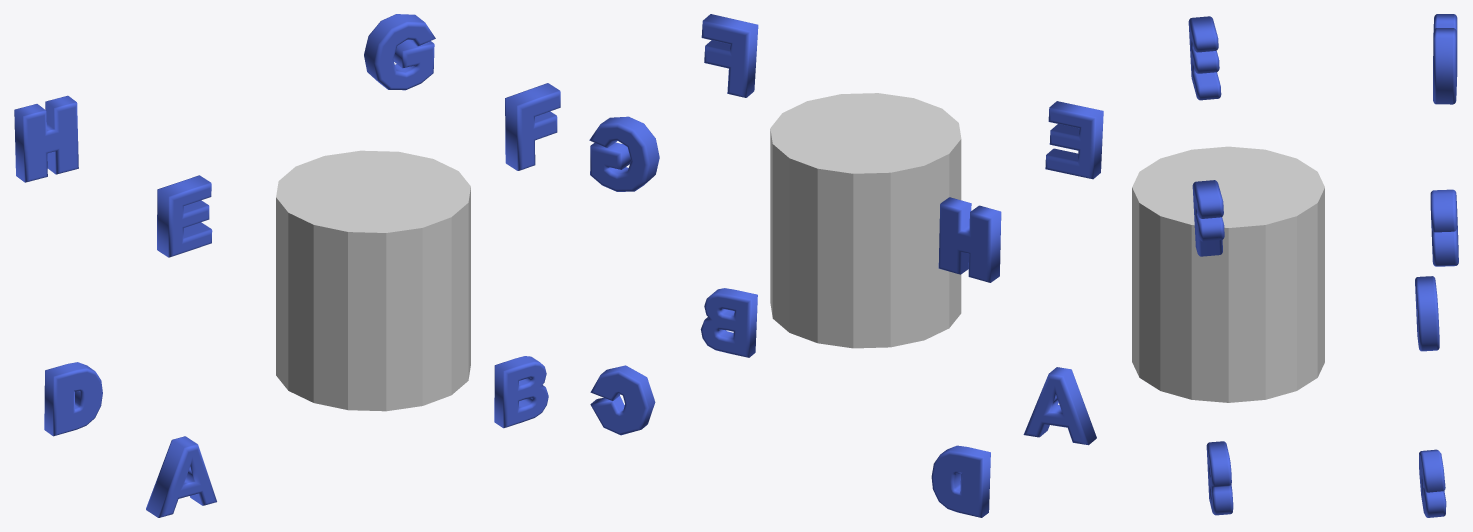
Rendered from tabung6.glb.
3 views of the same model, side by side, from view 1: azimuth 30°, elevation 25°; view 2: azimuth 150°, elevation 25°; view 3: azimuth 270°, elevation 25° (orthographic). The views are drawn at different scales.
Parts seen in each view (by area): view 1: Cylinder, Text.007, Text.006, Text.004, Text.003, Text.005, Text.009, Text.001; view 2: Cylinder, Text.007, Text.006, Text.004, Text.003, Text.005, Text.002, Text.001, Text.009; view 3: Cylinder, Text.004, Text.007, Text.005, Text.006, Text.001, Text.003, Text.002.
Boxes of the visible parts, x1,y1,x2,y2 form: Cylinder: (276,150,470,411); Text.007: (14,95,78,182); Text.006: (364,14,435,90); Text.004: (157,175,212,257); Text.003: (44,362,102,436); Text.005: (505,83,560,170); Text.009: (146,436,216,517); Text.001: (494,356,548,428); Cylinder: (770,93,961,348); Text.007: (938,197,1001,282); Text.006: (589,116,659,191); Text.004: (1045,101,1103,179); Text.003: (931,445,990,517); Text.005: (701,14,758,97); Text.002: (590,365,655,435); Text.001: (700,288,757,357); Text.009: (1023,367,1096,445); Cylinder: (1132,146,1324,402); Text.004: (1188,16,1221,100); Text.007: (1433,14,1457,104); Text.005: (1192,180,1224,256); Text.006: (1430,189,1458,266); Text.001: (1206,441,1233,515); Text.003: (1415,276,1439,351); Text.002: (1419,449,1446,517).
Bounding box in the file's own units: 4.9 × 3.77 × 3.39.
